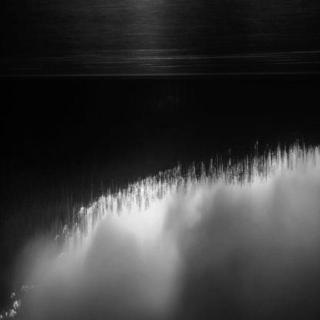Fire: (0, 141, 319, 318)
